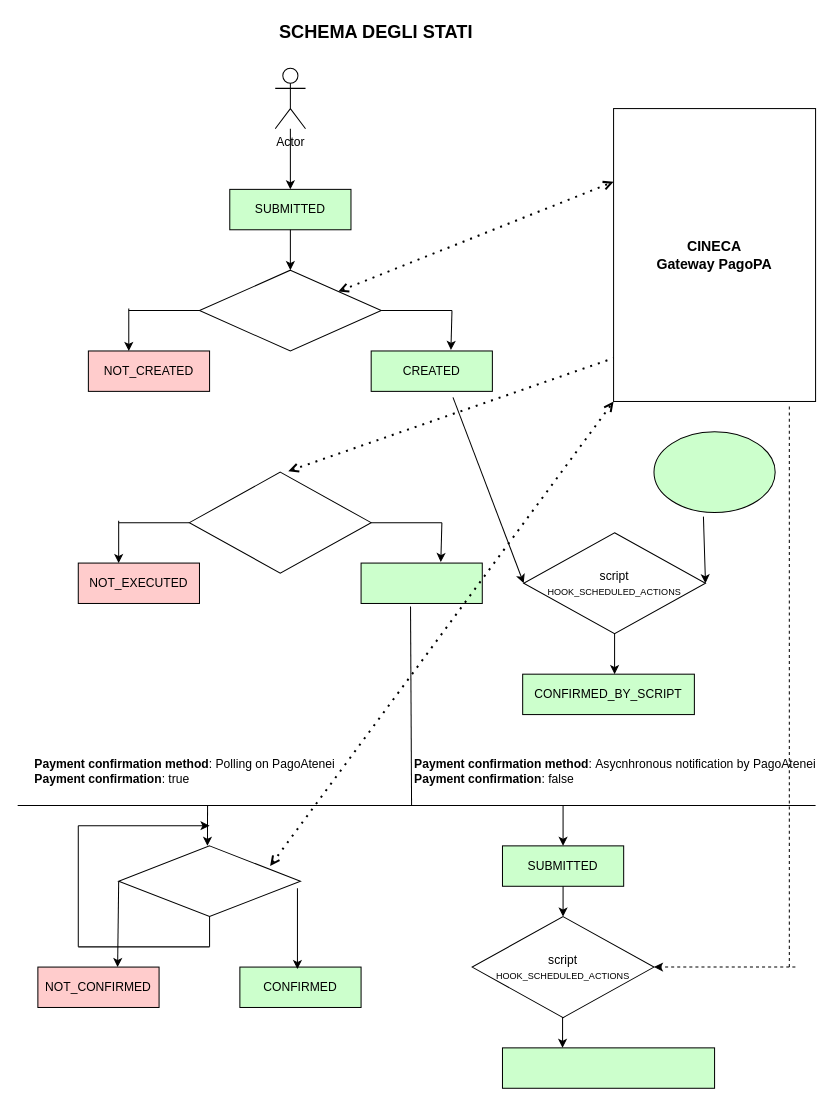
The diagram is 834 pixels wide and 1106 high, and some of its shapes have lost their labels. The shapes that lost their labels are listed below. From the top down, each one's box as (x1, y1, x2, y2) in pixels, then its label:
(198, 269, 381, 351): gpCaricaVersamento
(653, 431, 775, 513): Pagamento offline (es. ricevitoria)
(188, 471, 371, 573): callback HOOK_PAYMENT_COMPLETE
(360, 562, 482, 603): EXECUTED
(118, 845, 300, 917): gpChiediStatoVersamento
(501, 1047, 715, 1088): CONFIRMED_BY_NOTIFICATIONS
